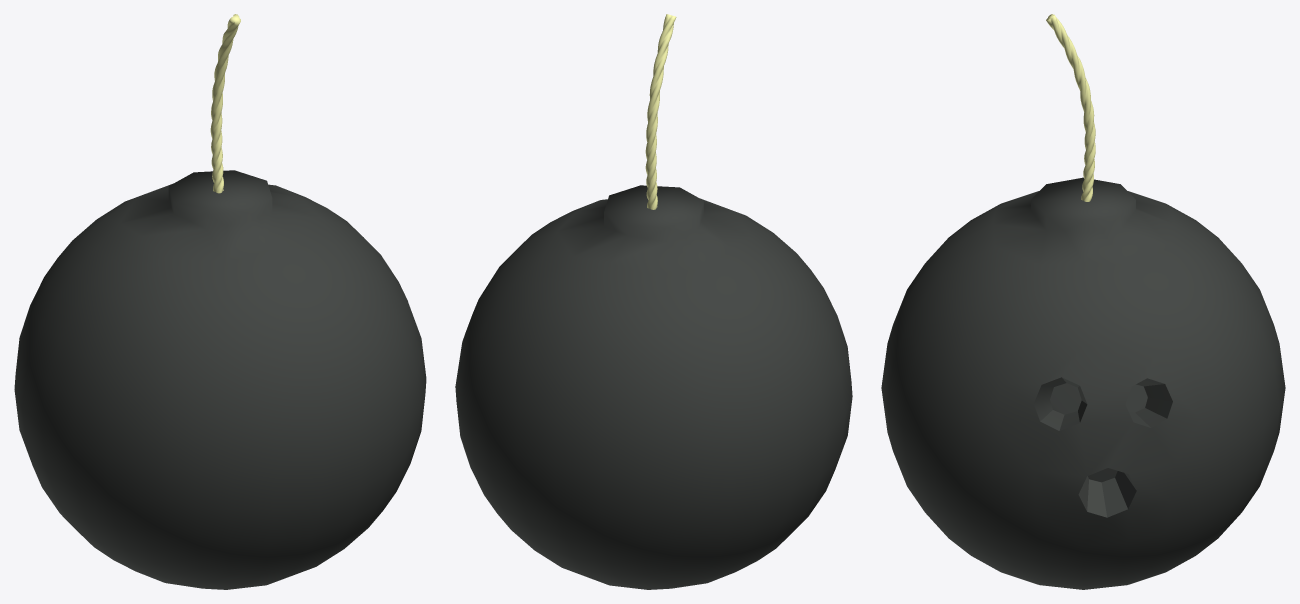
The model's file is Bomb Ball.fbx.
3 views of the same model, side by side, from view 1: azimuth 30°, elevation 25°; view 2: azimuth 150°, elevation 25°; view 3: azimuth 270°, elevation 25° (orthographic). The views are drawn at different scales.
Parts seen in each view (by area): view 1: Circle.001; view 2: Circle.001; view 3: Circle.001.
Part boxes in pixels (bbox=[...]): Circle.001: bbox=[14, 14, 426, 589]; Circle.001: bbox=[455, 14, 852, 589]; Circle.001: bbox=[881, 14, 1285, 589].
Size of the model in its own units: 37.89 by 57.65 by 37.98.
